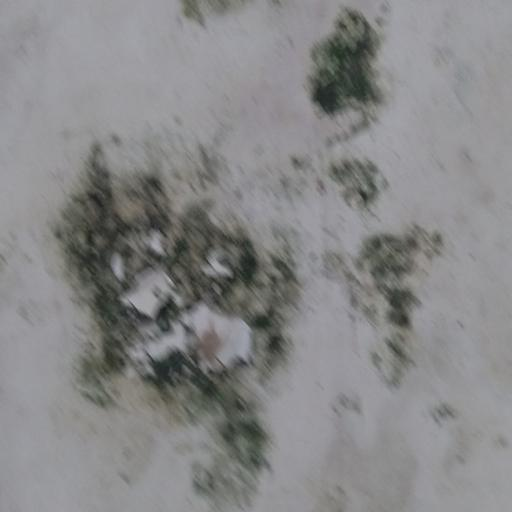algae: (33, 110, 444, 506)
